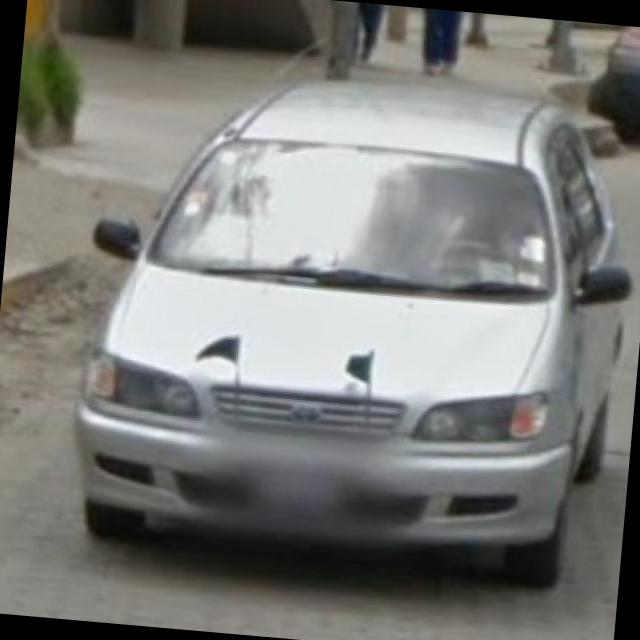car: (55, 66, 640, 636)
